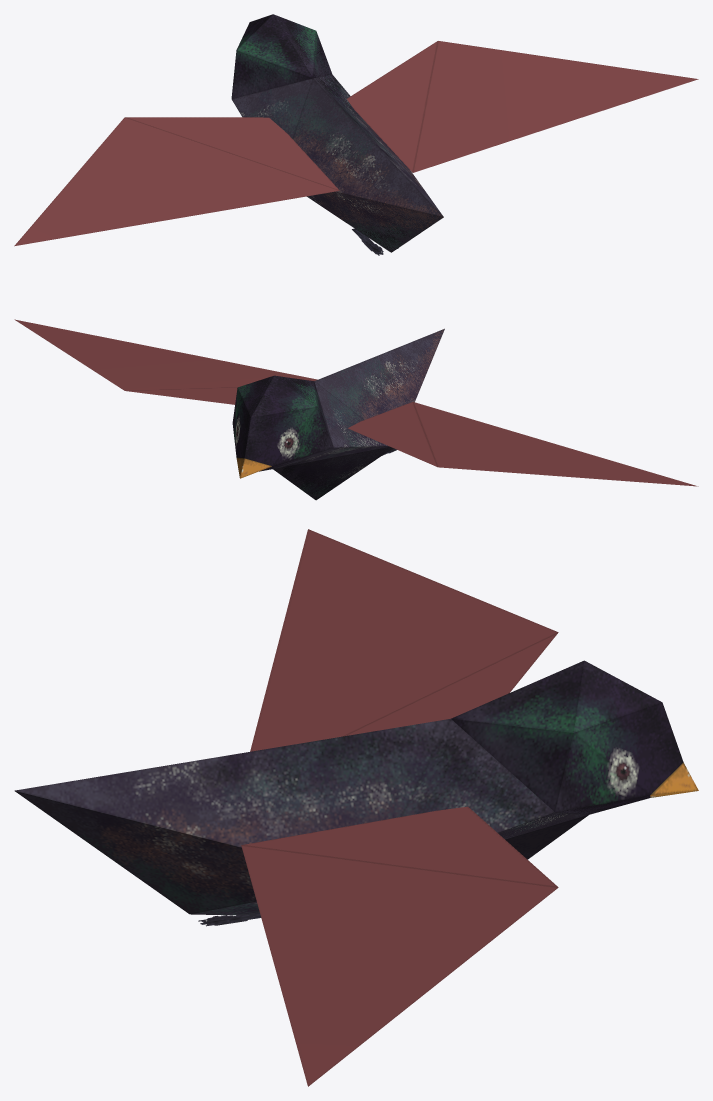
File: BirdSubmesh.fbx
The picture shows the model from 3 angles, top to bottom: view 1: azimuth 30°, elevation 25°; view 2: azimuth 150°, elevation 25°; view 3: azimuth 270°, elevation 25°; orthographic projection. The views are drawn at different scales.
Visible parts, largest first — view 1: Wings, Bird; view 2: Wings, Bird; view 3: Wings, Bird.
Boxes of the visible parts, box(x1,y1,x2,y2) form: Wings: box(14, 41, 698, 246); Bird: box(231, 14, 443, 252); Wings: box(14, 319, 698, 486); Bird: box(232, 328, 444, 500); Wings: box(241, 529, 558, 1086); Bird: box(14, 660, 698, 915).
Size of the model in its own units: 319 by 73.2 by 165.
